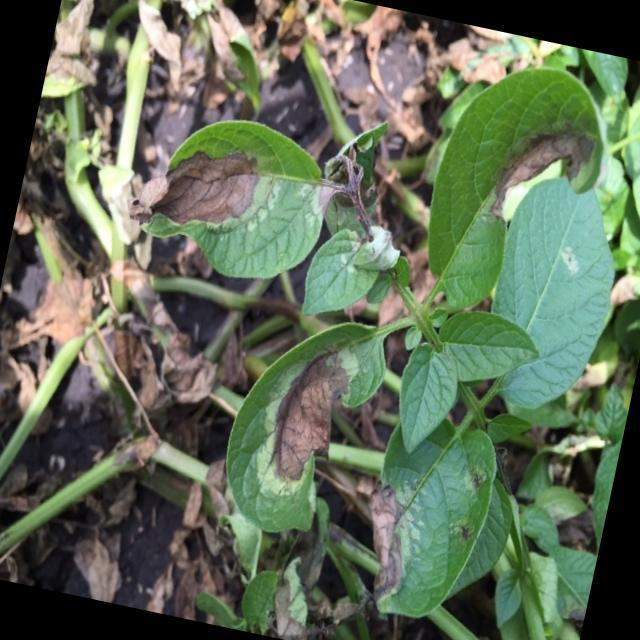Healthy Leaf: (386, 342, 464, 456), (433, 306, 544, 382)
